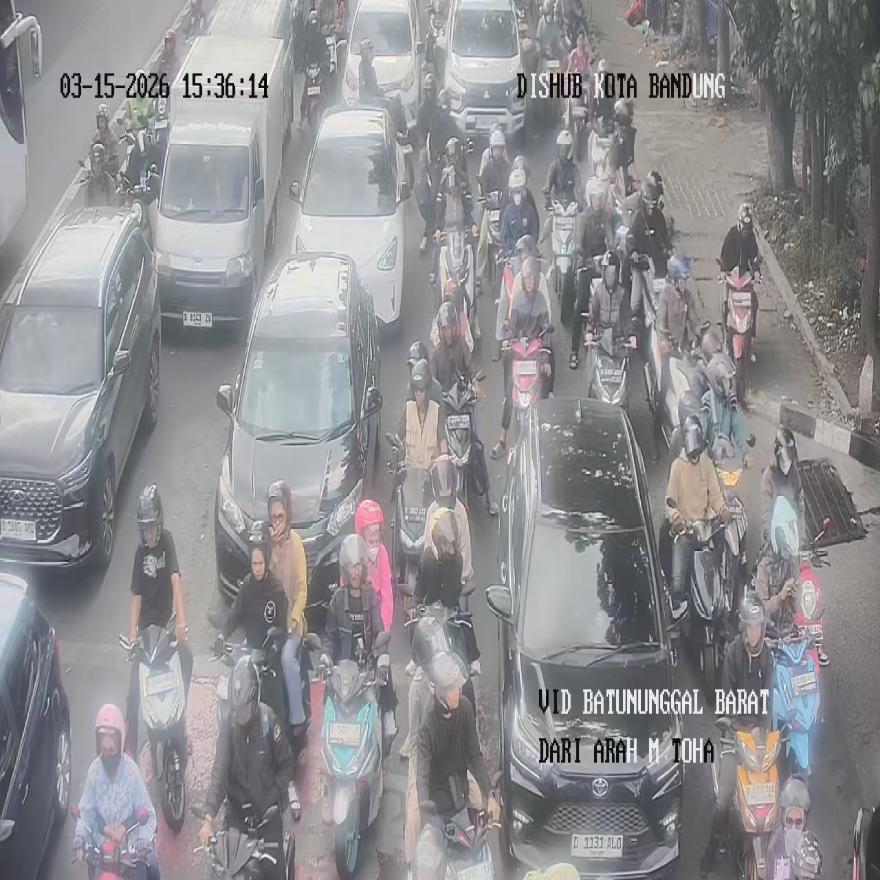Motor: (484, 399, 682, 876), (212, 250, 382, 608), (0, 206, 162, 570), (151, 35, 292, 332), (288, 98, 412, 332), (0, 572, 70, 879), (442, 0, 527, 161), (342, 0, 422, 134)
Truk: (308, 633, 395, 878), (664, 493, 747, 694), (119, 616, 191, 830), (399, 580, 479, 752), (712, 717, 787, 879), (768, 621, 819, 786), (386, 430, 431, 589), (413, 797, 498, 880), (501, 325, 553, 460), (206, 803, 296, 879), (70, 803, 158, 879), (792, 518, 834, 666), (440, 375, 484, 512), (722, 260, 760, 410), (631, 251, 664, 408), (585, 325, 636, 408), (437, 224, 474, 332), (548, 198, 577, 323), (119, 165, 160, 252), (569, 257, 600, 369), (475, 191, 501, 292), (78, 144, 118, 207), (424, 0, 446, 89), (303, 61, 326, 130), (566, 96, 588, 168), (542, 58, 564, 128), (180, 0, 209, 43), (324, 29, 338, 77)
